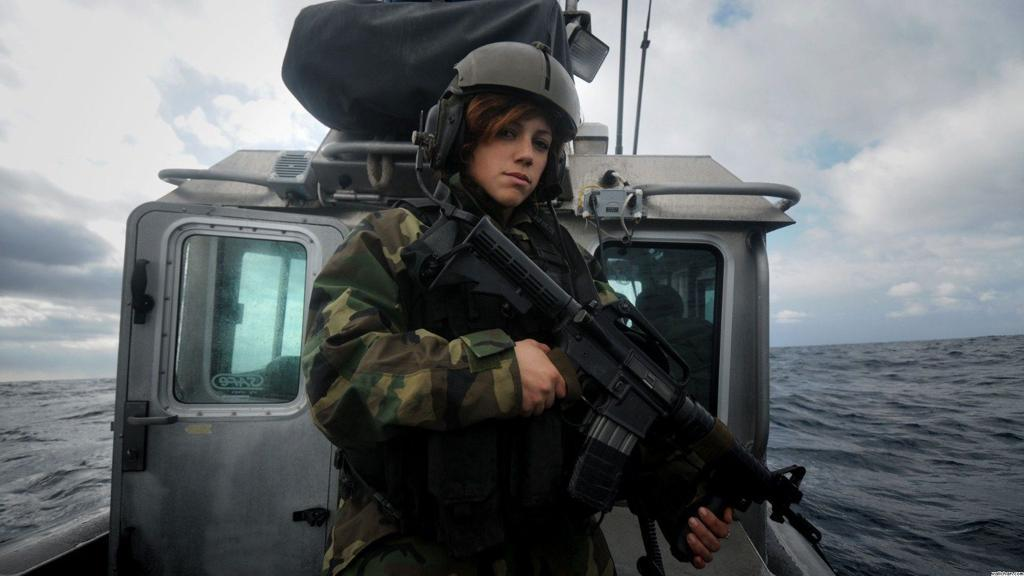face: (471, 87, 557, 207)
